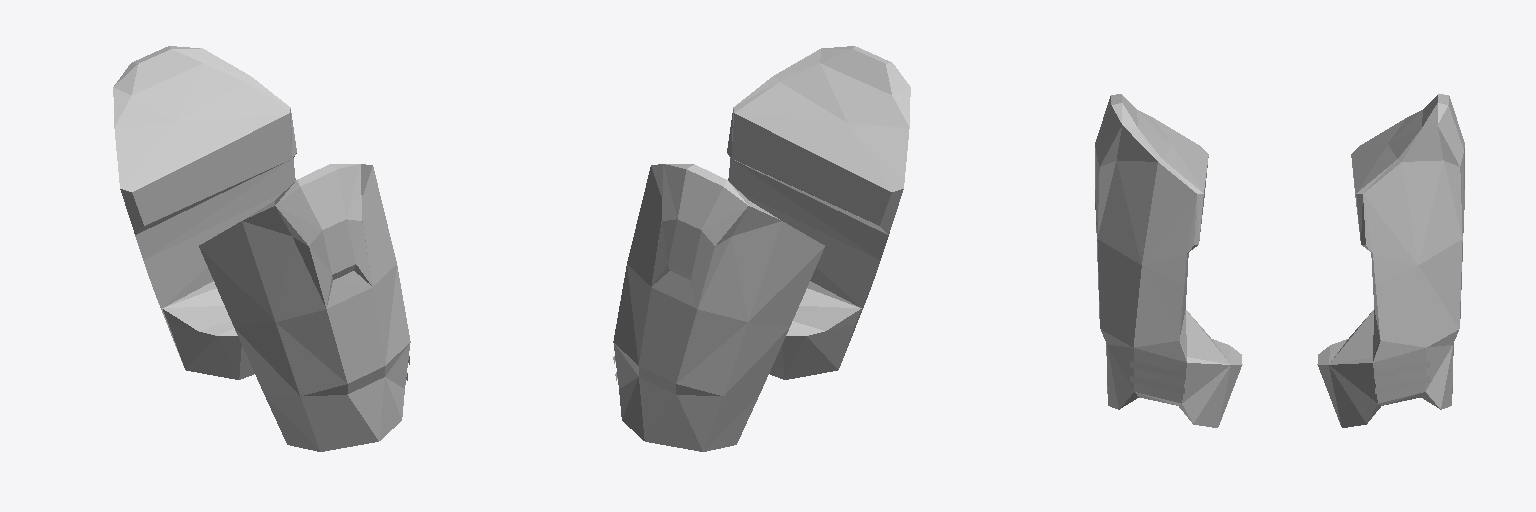
The model's file is thighs.obj.
The picture shows the model from 3 angles: view 1: azimuth 30°, elevation 25°; view 2: azimuth 150°, elevation 25°; view 3: azimuth 270°, elevation 25°; orthographic projection.
Parts seen in each view (by area): view 1: thighs_Mesh.004; view 2: thighs_Mesh.004; view 3: thighs_Mesh.004.
Part boxes in pixels (bbox=[...]): thighs_Mesh.004: bbox=[113, 46, 410, 451]; thighs_Mesh.004: bbox=[613, 46, 910, 451]; thighs_Mesh.004: bbox=[1095, 94, 1464, 427].
Size of the model in its own units: 0.2916 by 0.4344 by 0.4835.